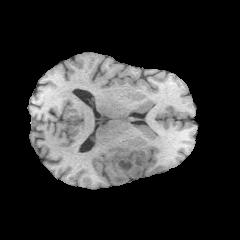glioma: (105, 147, 146, 180)
